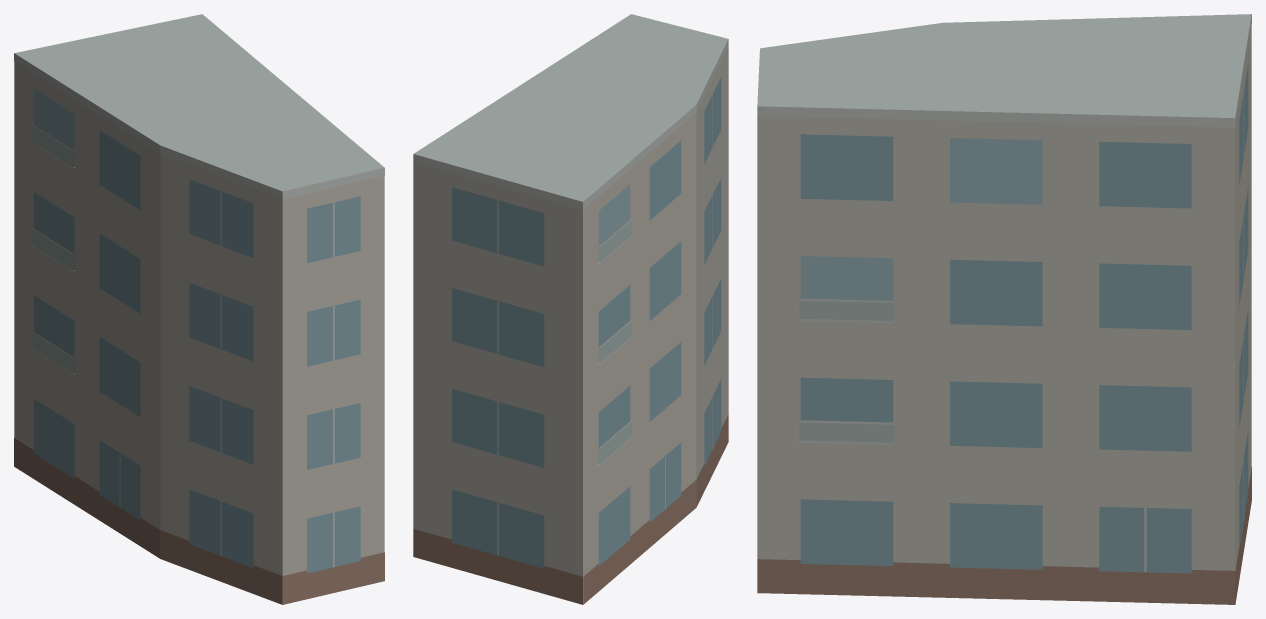
Rendered from survey-upis-32464885.glb.
The picture shows the model from 3 angles, left to right: view 1: azimuth 30°, elevation 25°; view 2: azimuth 150°, elevation 25°; view 3: azimuth 270°, elevation 25°; orthographic projection. The views are drawn at different scales.
Parts seen in each view (by area): view 1: survey-upis-32464885.tmp; view 2: survey-upis-32464885.tmp; view 3: survey-upis-32464885.tmp.
Boxes of the visible parts, x1,y1,x2,y2 form: survey-upis-32464885.tmp: [14, 14, 384, 604]; survey-upis-32464885.tmp: [413, 14, 728, 604]; survey-upis-32464885.tmp: [757, 14, 1251, 604].
Bounding box in the file's own units: 5.74 × 12.5 × 11.52.
